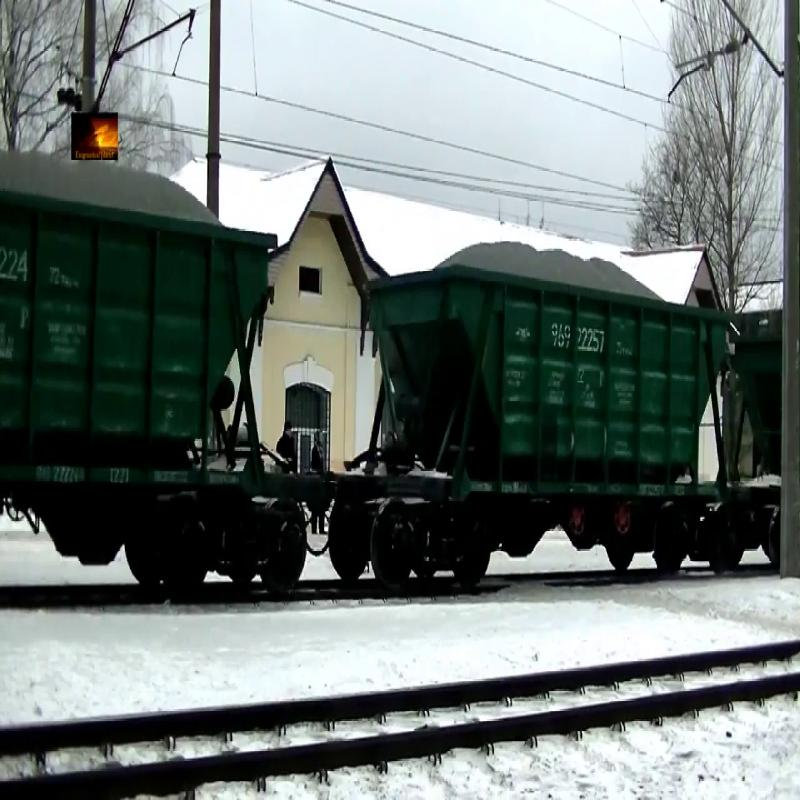train: (343, 216, 723, 597), (1, 152, 265, 583)
